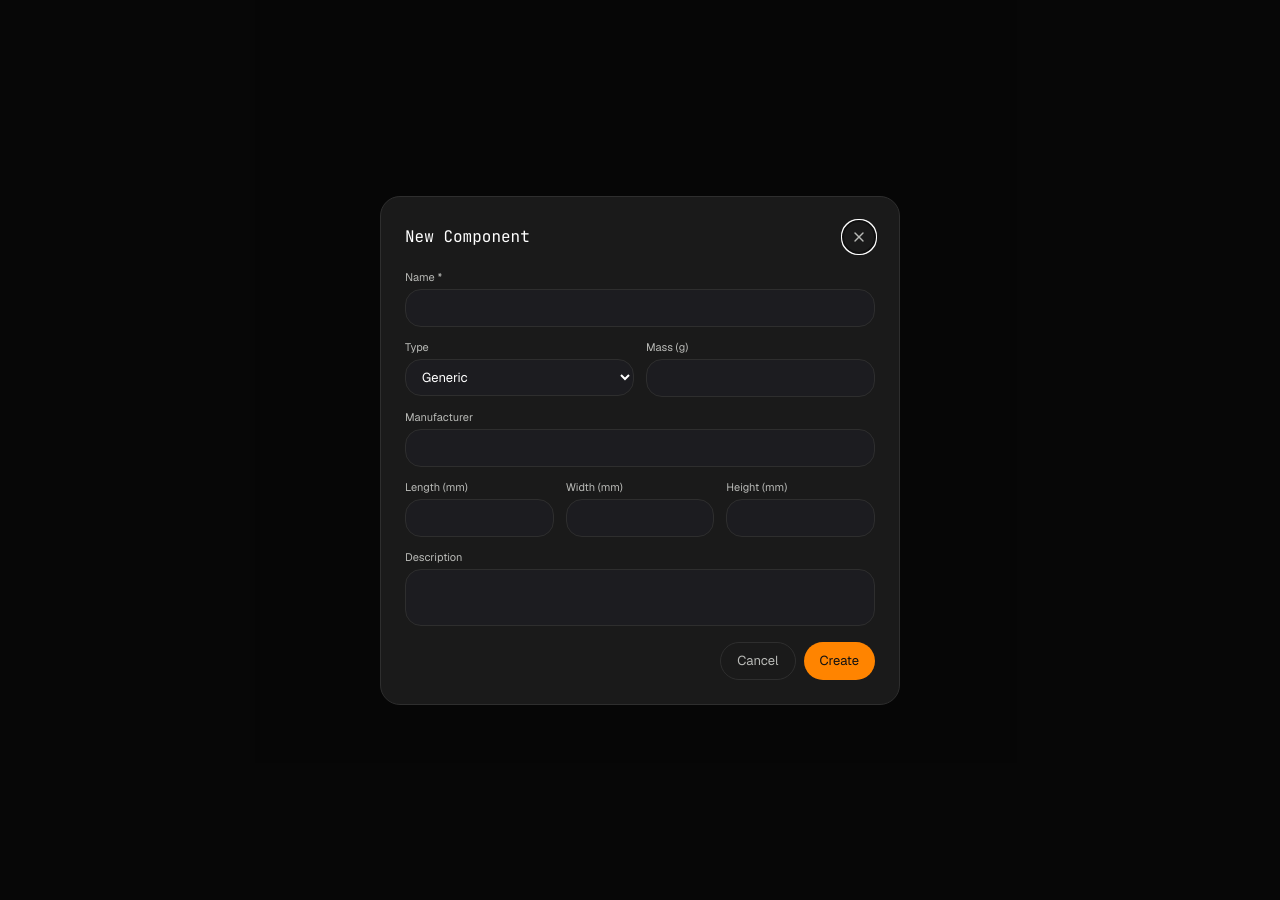
Test: ComponentEditDialog — dynamic specs rendering › renders number + enum fields for material type
# Select Material type
Select "Material" in the dropdown. click: (520, 378)
box: [405, 359, 634, 396]
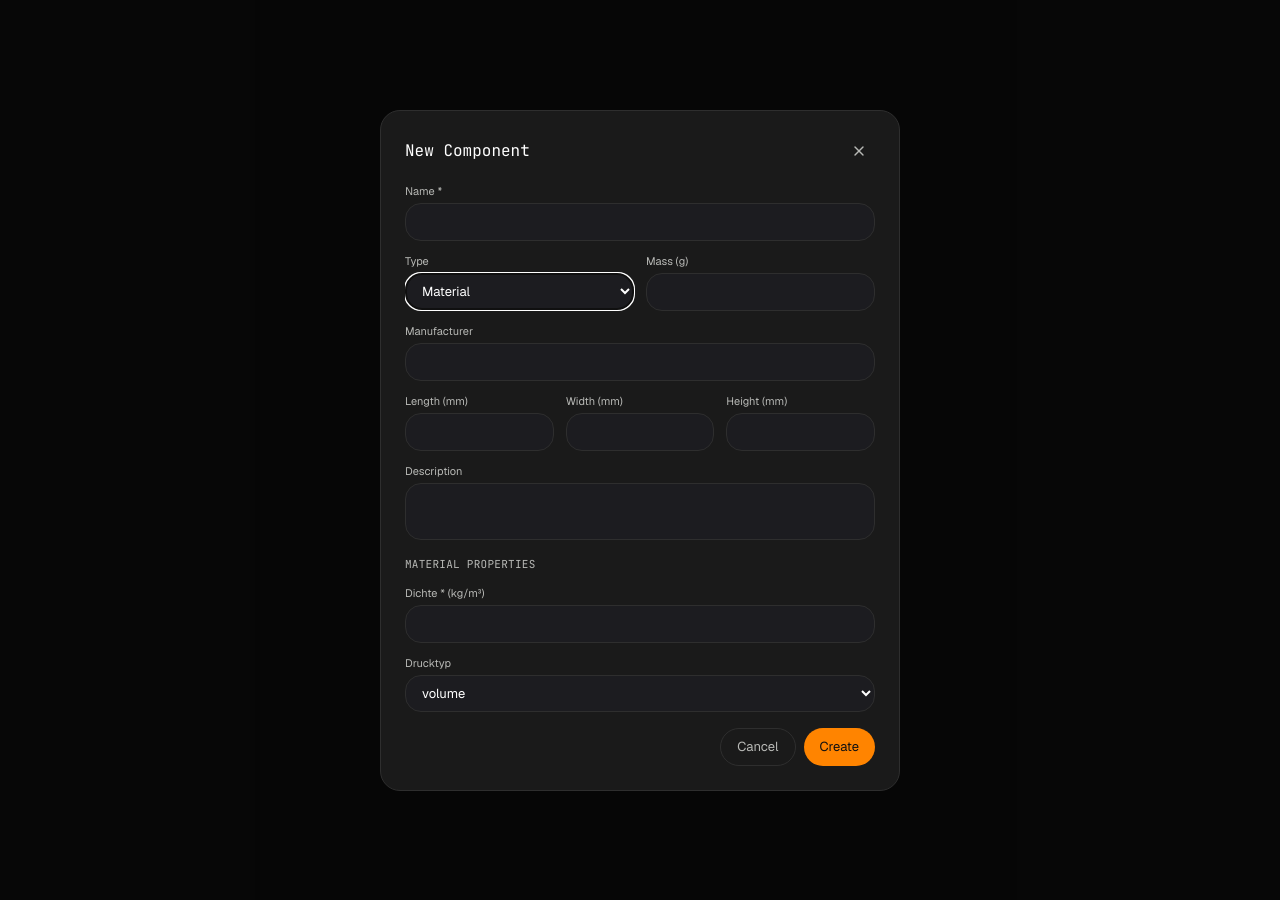
Expected: the text "Dichte * (kg/m³)" is shown, [405, 586, 484, 600]
Expected: the text "Drucktyp" is shown, [405, 656, 451, 670]
